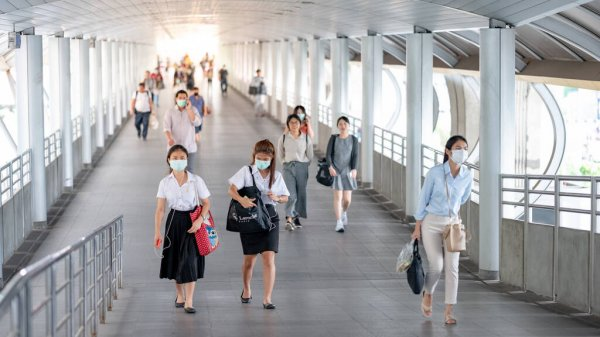with_mask: (445, 135, 468, 166), (254, 142, 275, 171), (167, 145, 187, 172), (174, 90, 189, 109)
without_mask: (336, 117, 350, 135), (287, 117, 301, 133)
